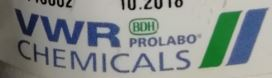VWR: (12, 6, 270, 73)
